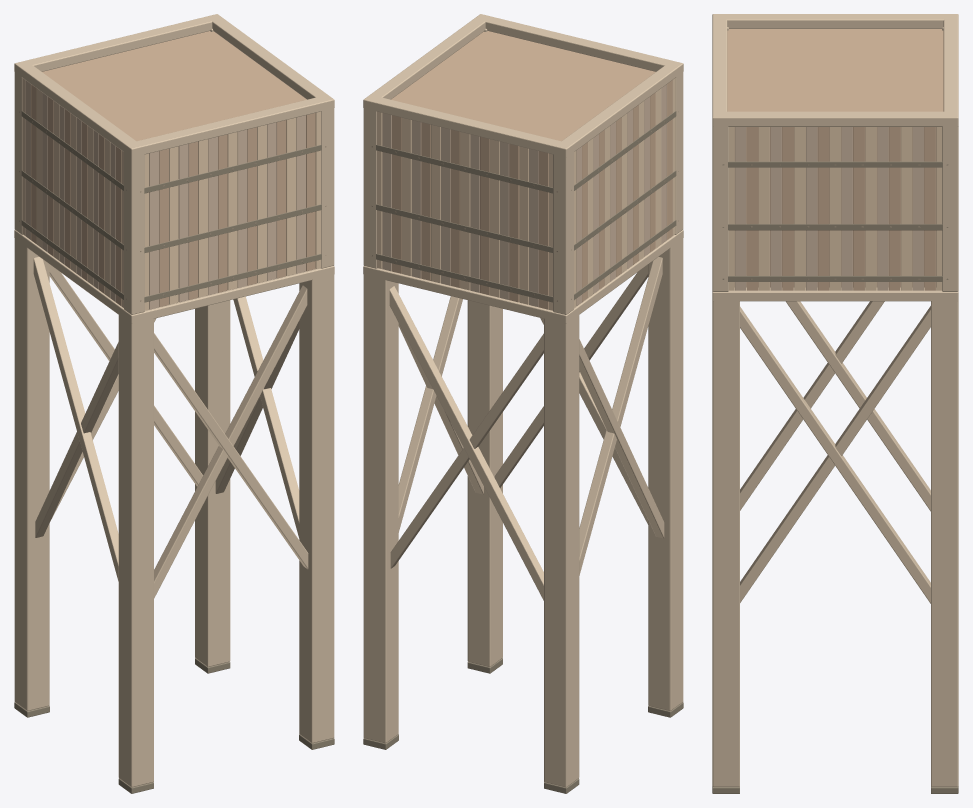
Rendered from frontier-water-tower.glb.
The picture shows the model from 3 angles, left to right: view 1: azimuth 30°, elevation 25°; view 2: azimuth 150°, elevation 25°; view 3: azimuth 270°, elevation 25°; orthographic projection. The views are drawn at different scales.
Parts seen in each view (by area): view 1: Tower squared timber, Tower dry heartwood, Tower dried cedar, Tower scrubbed rim, Tower blackened iron; view 2: Tower squared timber, Tower dry heartwood, Tower dried cedar, Tower scrubbed rim, Tower blackened iron; view 3: Tower squared timber, Tower dry heartwood, Tower dried cedar, Tower scrubbed rim, Tower blackened iron.
Boxes of the visible parts, x1=… form: Tower squared timber: x1=14, y1=14, x2=334, y2=787; Tower dry heartwood: x1=31, y1=31, x2=315, y2=306; Tower dried cedar: x1=22, y1=78, x2=320, y2=310; Tower scrubbed rim: x1=25, y1=80, x2=305, y2=309; Tower blackened iron: x1=14, y1=111, x2=334, y2=793; Tower squared timber: x1=363, y1=14, x2=683, y2=787; Tower dry heartwood: x1=391, y1=31, x2=672, y2=309; Tower dried cedar: x1=377, y1=78, x2=675, y2=310; Tower scrubbed rim: x1=382, y1=84, x2=666, y2=306; Tower blackened iron: x1=363, y1=111, x2=683, y2=793; Tower squared timber: x1=712, y1=14, x2=958, y2=786; Tower dry heartwood: x1=727, y1=29, x2=943, y2=290; Tower dried cedar: x1=729, y1=127, x2=941, y2=290; Tower scrubbed rim: x1=735, y1=127, x2=923, y2=290; Tower blackened iron: x1=712, y1=161, x2=958, y2=793.
Size of the model in its own units: 4 by 12.13 by 4.
